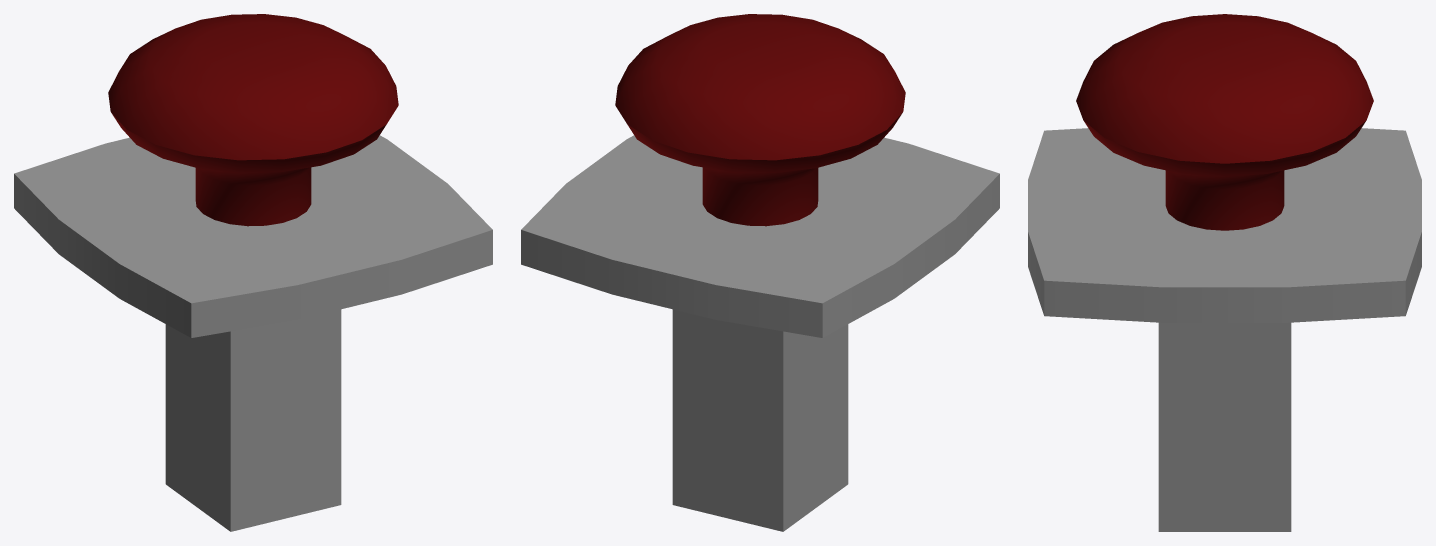
Rendered from br_button_A.FBX.
3 renders of one model, left to right at view 1: azimuth 30°, elevation 25°; view 2: azimuth 150°, elevation 25°; view 3: azimuth 270°, elevation 25°, orthographic.
Parts seen in each view (by area): view 1: Box031, Cylinder025; view 2: Box031, Cylinder025; view 3: Box031, Cylinder025.
Part boxes in pixels (box(x1,y1,x2,y2)): Box031: box(14, 135, 492, 531); Cylinder025: box(108, 14, 398, 226); Box031: box(521, 135, 999, 531); Cylinder025: box(615, 14, 905, 226); Box031: box(1028, 128, 1421, 531); Cylinder025: box(1076, 14, 1373, 230).
Size of the model in its own units: 52.32 by 68.11 by 53.29.
